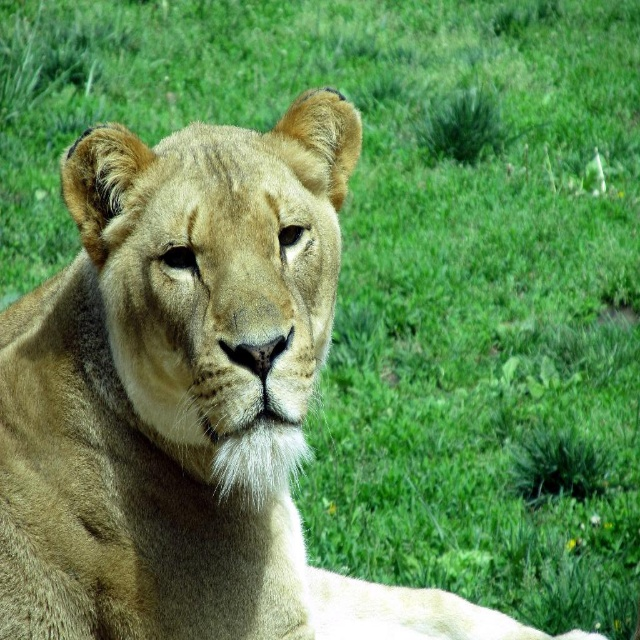Lion: (0, 83, 611, 640)
